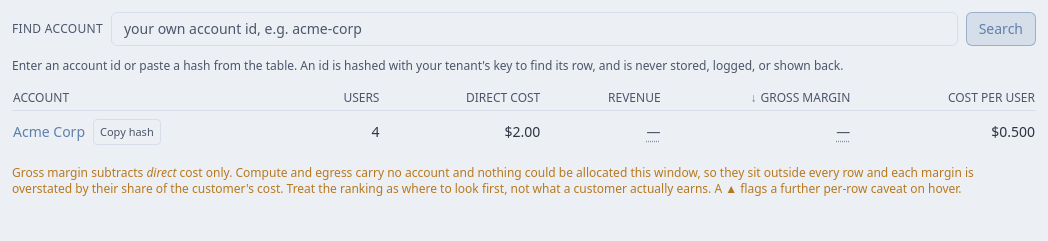
Scenario: AccountTable › says an account has no spend rather than emptying the table
In the field labelled "Find account": (534, 29) [111,12,958,46], type "ghost"
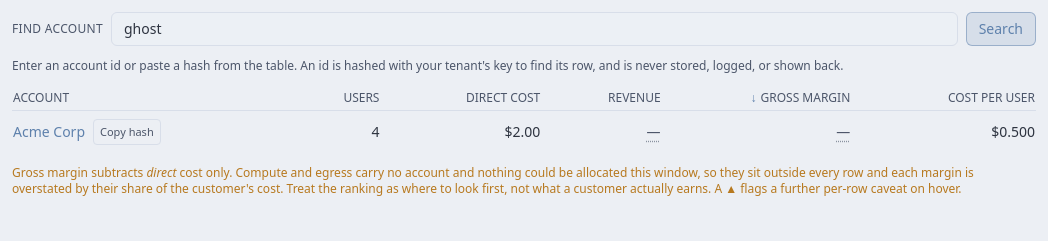
Click the button "Search": click(1001, 29) [966,12,1036,46]
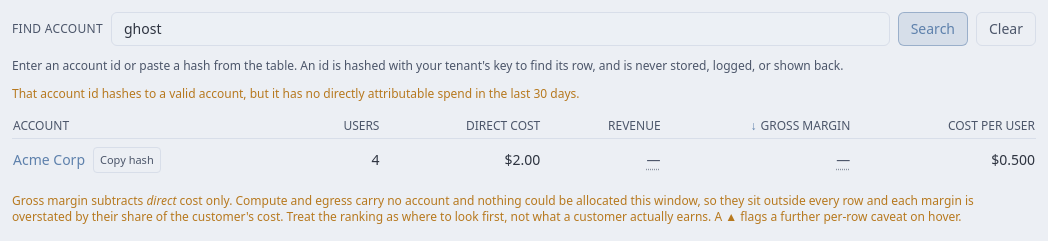
Expected: the link "Acme Corp" is shown, [13,150,85,170]
Expected: the text "no directly attributable spend in the last 30 days" is shown, [12,85,580,102]
